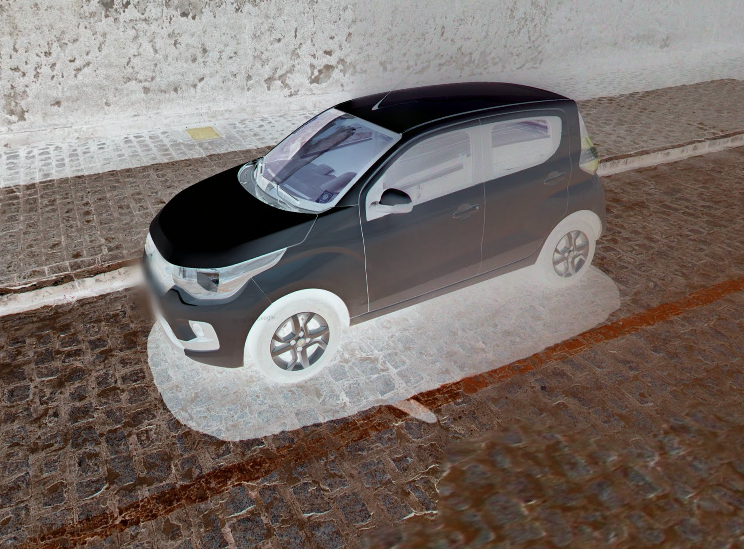car: (139, 66, 609, 388)
